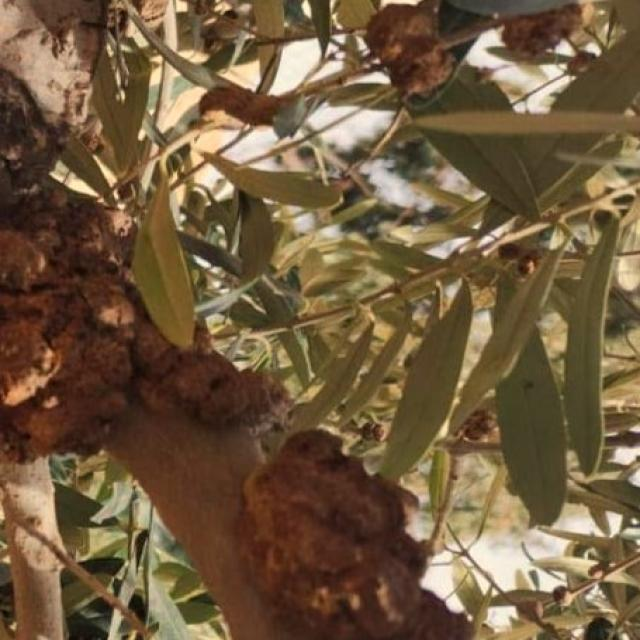Tuberculosis: (0, 185, 286, 462), (237, 430, 468, 636), (366, 0, 466, 110), (200, 82, 306, 138), (500, 5, 580, 70)
